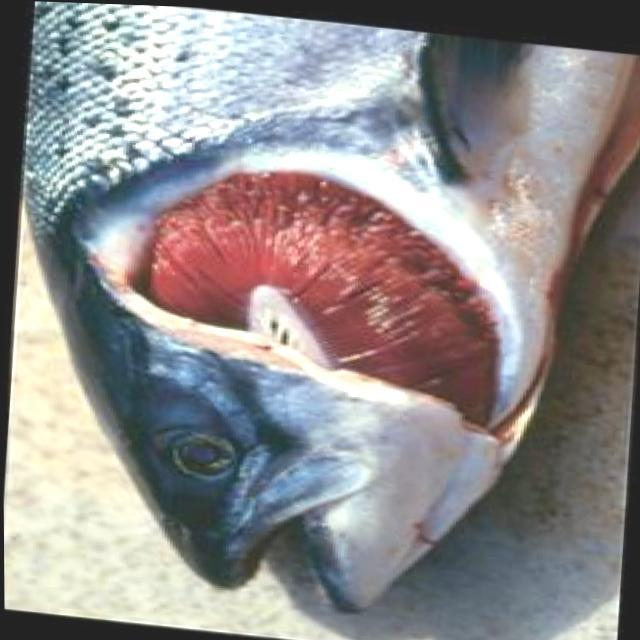Gill Disease: (35, 5, 580, 589)
